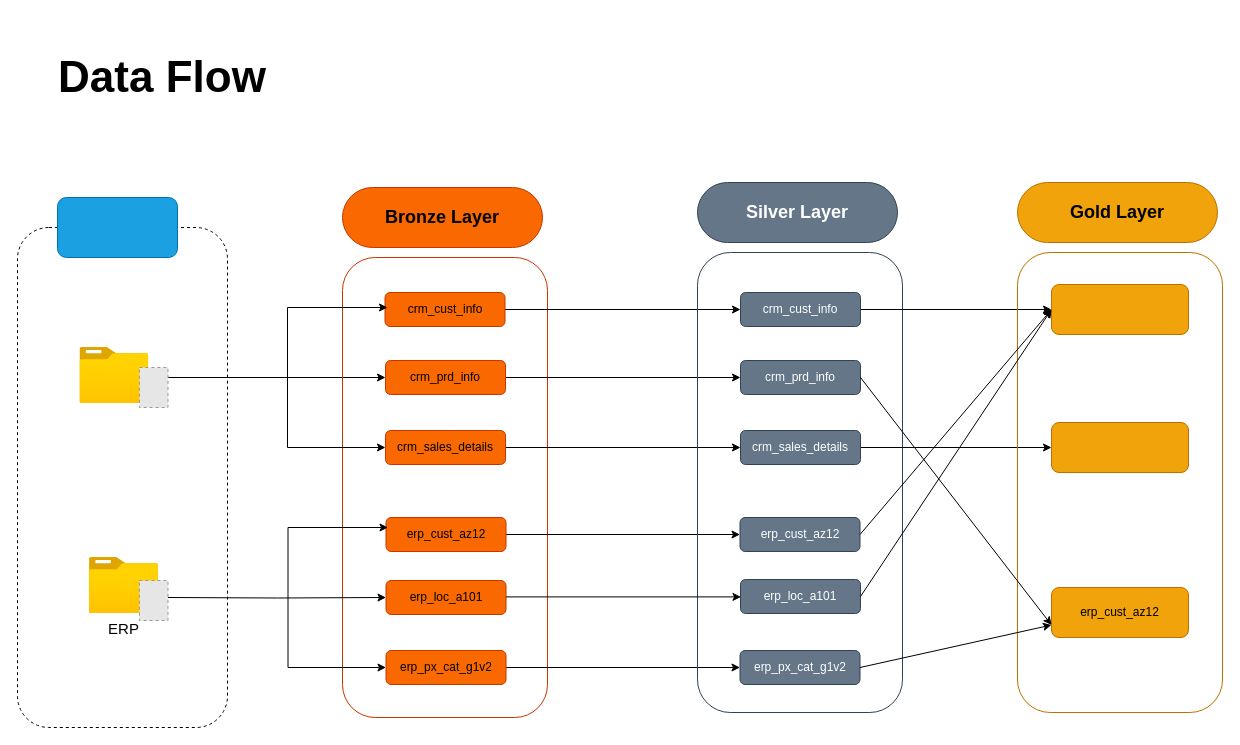
The diagram is 1240 pixels wide and 745 high, and some of its shapes have lost their labels. Grey dashed boxes stand in for pictures. The centre of each missing label's shape, as x and y in pixels:
CRM: the point at 113,375
dim_customers: the point at 1119,309
fact_sales: the point at 1119,447
Sources: the point at 117,227
